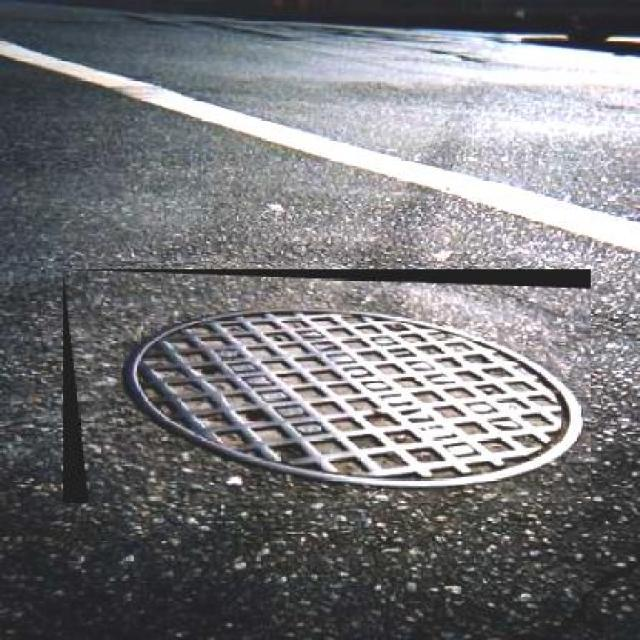Manhole: (63, 270, 591, 504)
